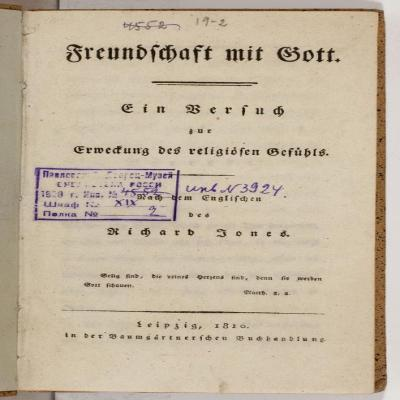rare_books: (0, 10, 384, 395)
